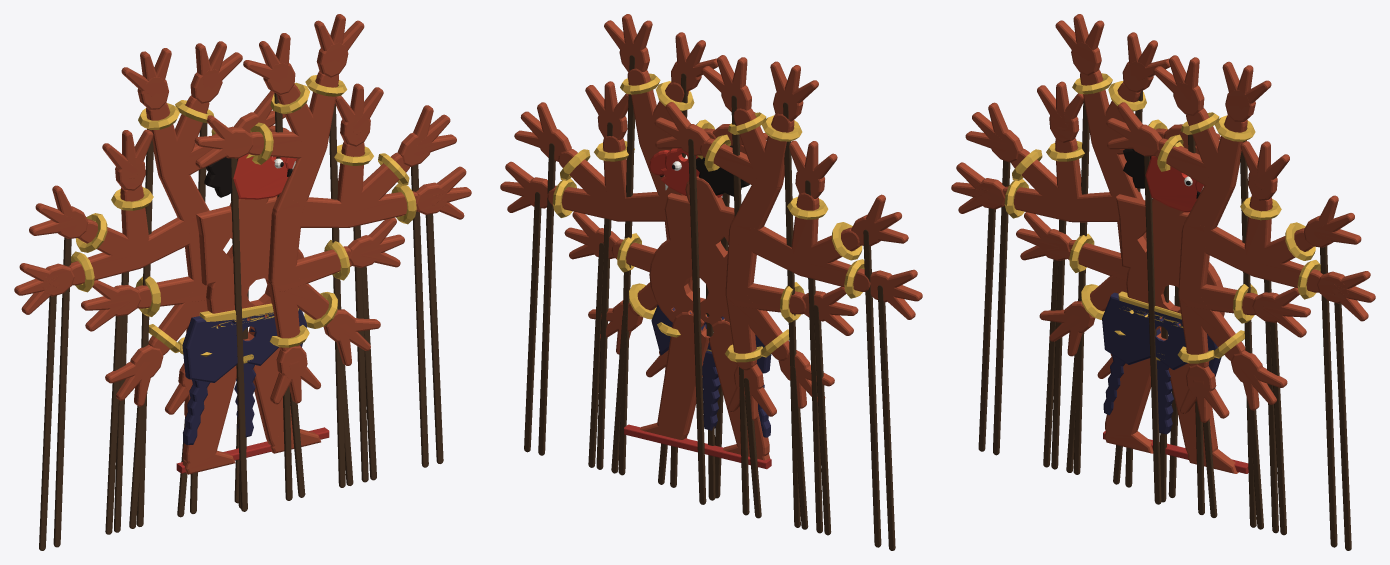
The model's file is buta.glb.
The picture shows the model from 3 angles, left to right: view 1: azimuth 30°, elevation 25°; view 2: azimuth 150°, elevation 25°; view 3: azimuth 330°, elevation 25°; orthographic projection. The views are drawn at different scales.
Visible parts, largest first — view 1: body, front_20, back_10, front_10, back_20, front_00, front_22, front_11, back_11, front_12, back_02, back_12 (+8 smaller); view 2: body, back_20, back_10, front_10, front_20, back_22, front_11, back_00, back_11, back_12, front_12, back_21 (+8 smaller); view 3: body, front_10, back_20, front_20, back_10, front_22, front_00, back_11, front_11, back_12, front_02, front_12 (+8 smaller).
Part boxes in pixels (bbox=[...]): body: bbox=[176, 196, 329, 508]; front_20: bbox=[272, 14, 364, 487]; back_10: bbox=[14, 215, 199, 550]; front_10: bbox=[272, 166, 471, 463]; back_20: bbox=[121, 48, 209, 526]; front_00: bbox=[268, 201, 320, 497]; front_22: bbox=[194, 115, 304, 511]; front_11: bbox=[355, 105, 456, 467]; back_11: bbox=[29, 185, 134, 547]; front_12: bbox=[334, 83, 383, 482]; back_02: bbox=[81, 276, 206, 534]; back_12: bbox=[102, 129, 153, 532]; body: bbox=[624, 176, 771, 500]; back_20: bbox=[730, 61, 818, 527]; back_10: bbox=[731, 221, 922, 550]; front_10: bbox=[500, 161, 667, 452]; front_20: bbox=[604, 14, 686, 475]; back_22: bbox=[654, 102, 778, 504]; front_11: bbox=[514, 102, 611, 455]; back_00: bbox=[725, 221, 776, 518]; back_11: bbox=[805, 194, 908, 547]; back_12: bbox=[787, 140, 837, 533]; front_12: bbox=[585, 81, 634, 469]; back_21: bbox=[701, 55, 767, 515]; body: bbox=[1102, 194, 1248, 502]; front_10: bbox=[1183, 221, 1375, 550]; back_20: bbox=[1055, 14, 1143, 474]; front_20: bbox=[1182, 61, 1271, 527]; back_10: bbox=[951, 162, 1119, 451]; front_22: bbox=[1106, 102, 1209, 504]; front_00: bbox=[1177, 222, 1229, 517]; back_11: bbox=[965, 102, 1063, 455]; front_11: bbox=[1258, 195, 1361, 547]; back_12: bbox=[1037, 81, 1084, 469]; front_02: bbox=[1180, 284, 1310, 535]; front_12: bbox=[1240, 141, 1289, 533].
Bounding box in the file's own units: 1.55 × 1.59 × 0.1929.
